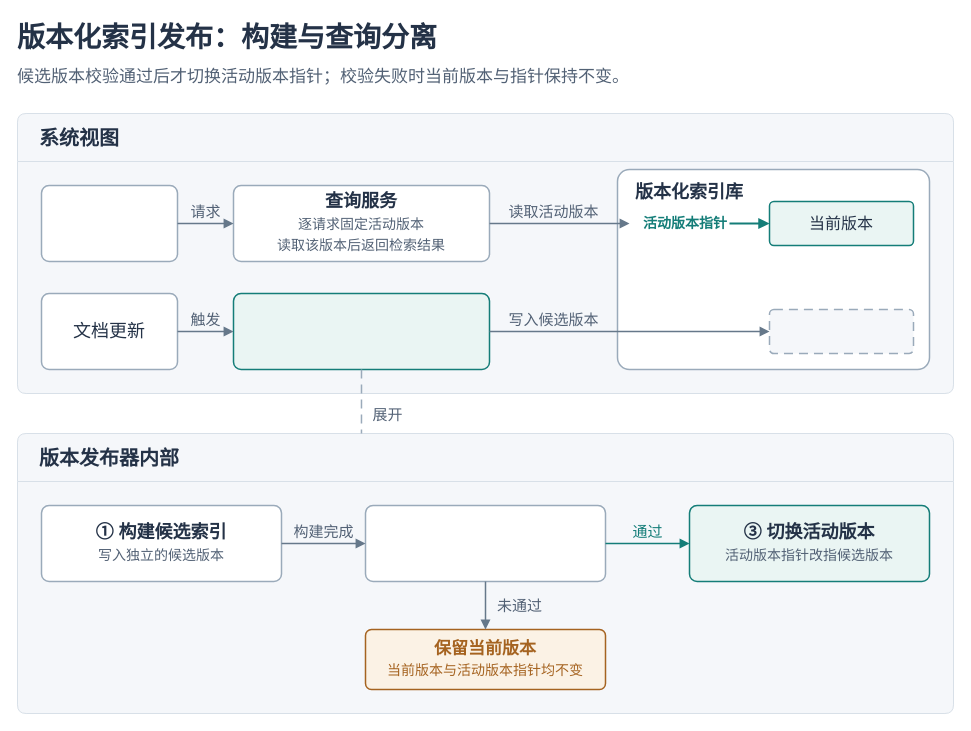
The diagram is 971 pixels wide and 731 high, and some of its shapes have lost their labels. Each missing label, with the centre of its shape:
"② 校验候选版本 检查候选数据完整性" goes at point (485, 543).
"候选版本" goes at point (841, 331).
"查询请求" goes at point (109, 223).
"版本发布器 构建候选版本，校验通过后切换指针" goes at point (361, 331).
